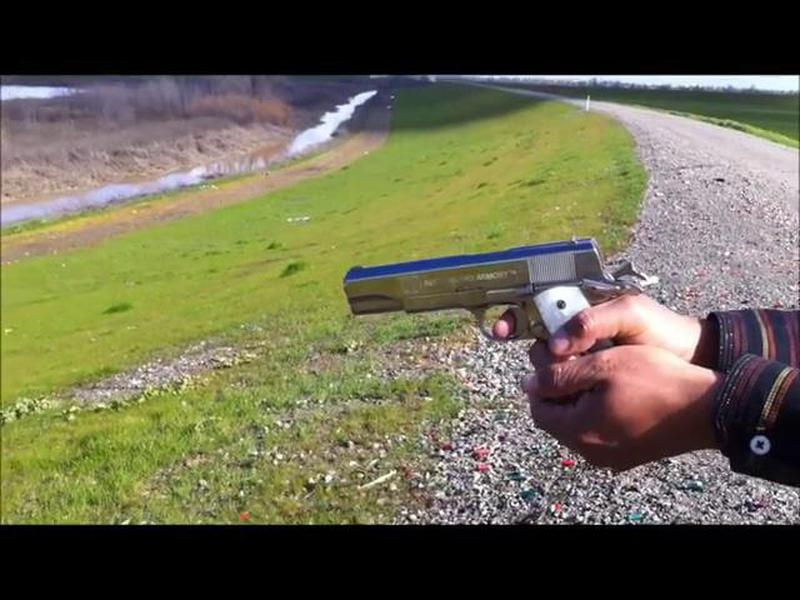Pistola: (325, 221, 667, 382)
